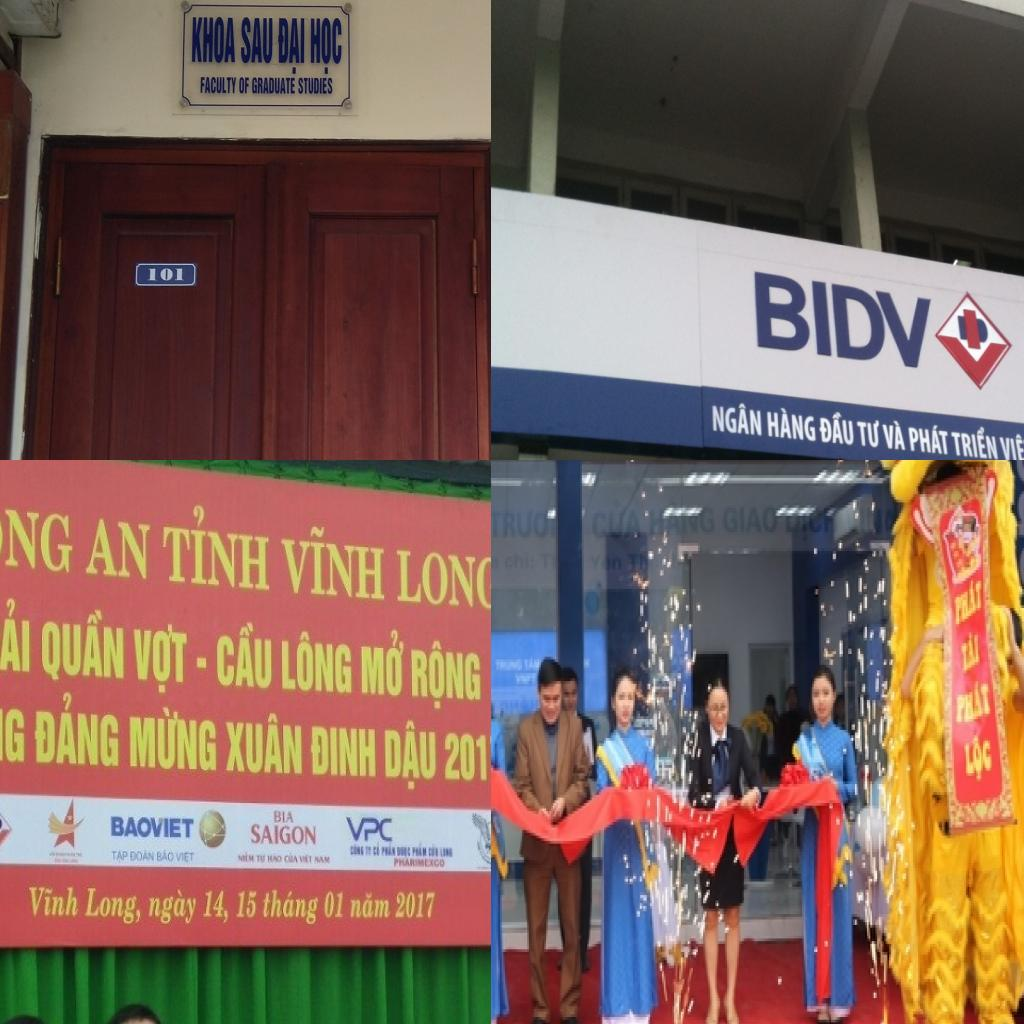text: (754, 267, 932, 373), (162, 499, 272, 595), (276, 520, 388, 604), (39, 604, 127, 688), (32, 690, 121, 770), (0, 482, 74, 578), (127, 702, 219, 775), (396, 548, 491, 613), (132, 620, 210, 699), (410, 637, 483, 716), (224, 710, 306, 779), (280, 626, 355, 698), (83, 516, 154, 584), (215, 615, 274, 692), (383, 716, 439, 792), (309, 724, 379, 780), (358, 625, 406, 699), (647, 497, 718, 543), (0, 593, 33, 676), (260, 887, 322, 930), (84, 886, 143, 930), (443, 732, 491, 786), (590, 500, 644, 546), (109, 814, 197, 842), (785, 502, 836, 548), (146, 887, 201, 928), (491, 505, 554, 540), (712, 400, 764, 442), (723, 502, 780, 540), (192, 16, 236, 63), (964, 727, 998, 787), (0, 692, 27, 766), (956, 676, 995, 727), (952, 570, 985, 630), (767, 407, 816, 446), (28, 886, 83, 920), (311, 17, 342, 76), (952, 424, 999, 460), (249, 823, 318, 847), (344, 814, 395, 846), (277, 17, 305, 75), (240, 17, 274, 63), (908, 422, 950, 458), (817, 411, 856, 448), (349, 890, 394, 921), (200, 887, 231, 927), (959, 624, 981, 678), (883, 416, 908, 458), (858, 415, 882, 454), (505, 548, 538, 576), (321, 890, 347, 921), (235, 888, 260, 920), (998, 430, 1024, 460), (251, 77, 296, 94), (200, 76, 238, 95), (590, 554, 624, 575), (298, 76, 334, 94), (147, 268, 184, 281), (496, 657, 526, 673), (129, 847, 156, 864), (272, 808, 297, 826), (539, 551, 555, 576), (418, 857, 448, 870), (235, 850, 256, 866), (526, 656, 542, 676), (174, 850, 196, 864), (110, 849, 130, 864), (156, 849, 175, 864), (392, 857, 412, 870), (381, 842, 397, 858), (283, 852, 301, 866), (348, 844, 366, 858), (314, 854, 333, 867), (491, 551, 501, 575), (238, 76, 250, 95), (298, 852, 314, 866), (267, 854, 283, 866), (255, 852, 267, 866), (373, 840, 381, 860), (364, 844, 374, 858)
